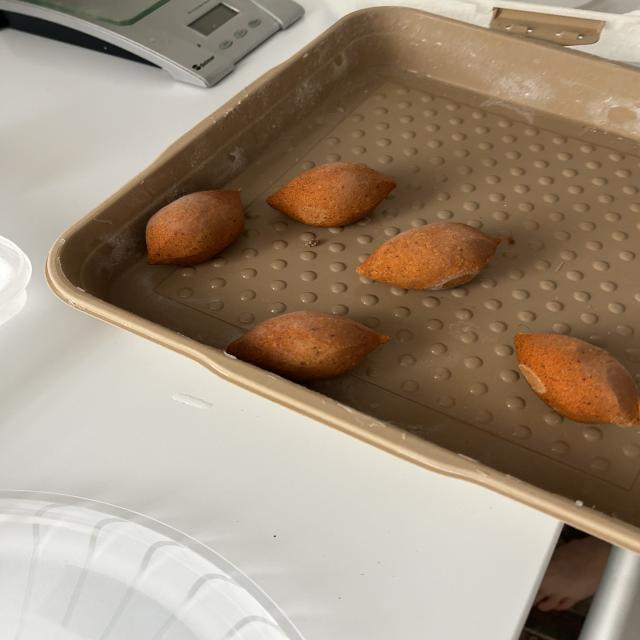kobi: (516, 328, 640, 428), (226, 313, 390, 377), (360, 226, 512, 290), (270, 161, 410, 226), (142, 186, 248, 268)
